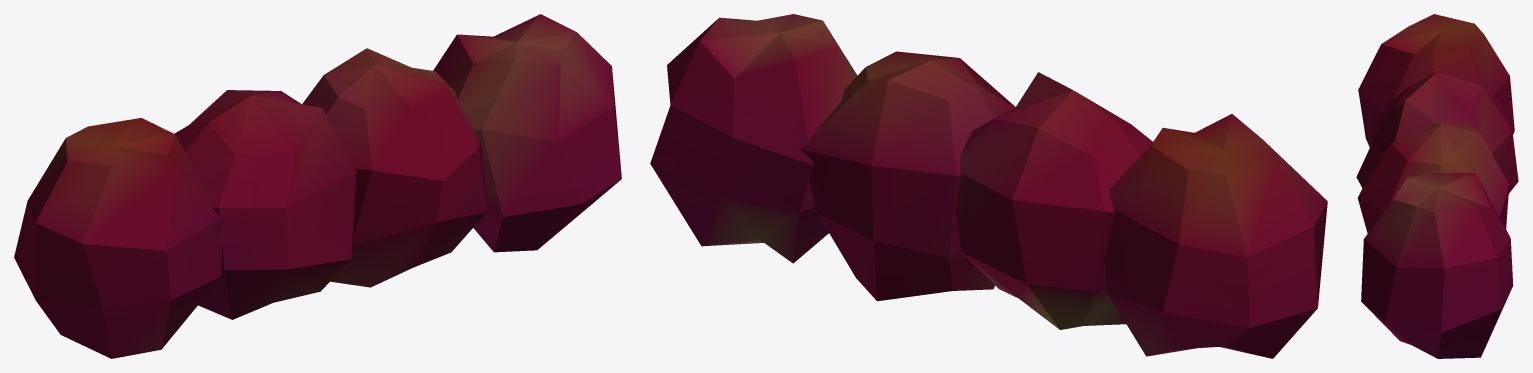
Rendered from Bush_Hedge_01.glb.
The picture shows the model from 3 angles, left to right: view 1: azimuth 30°, elevation 25°; view 2: azimuth 150°, elevation 25°; view 3: azimuth 270°, elevation 25°; orthographic projection. The views are drawn at different scales.
Parts seen in each view (by area): view 1: Bush_Hedge_01; view 2: Bush_Hedge_01; view 3: Bush_Hedge_01.
Boxes of the visible parts, x1,y1,x2,y2 form: Bush_Hedge_01: [14, 14, 621, 358]; Bush_Hedge_01: [650, 14, 1327, 358]; Bush_Hedge_01: [1356, 14, 1518, 358].
Bounding box in the file's own units: 2.62 × 0.8647 × 0.7721.
